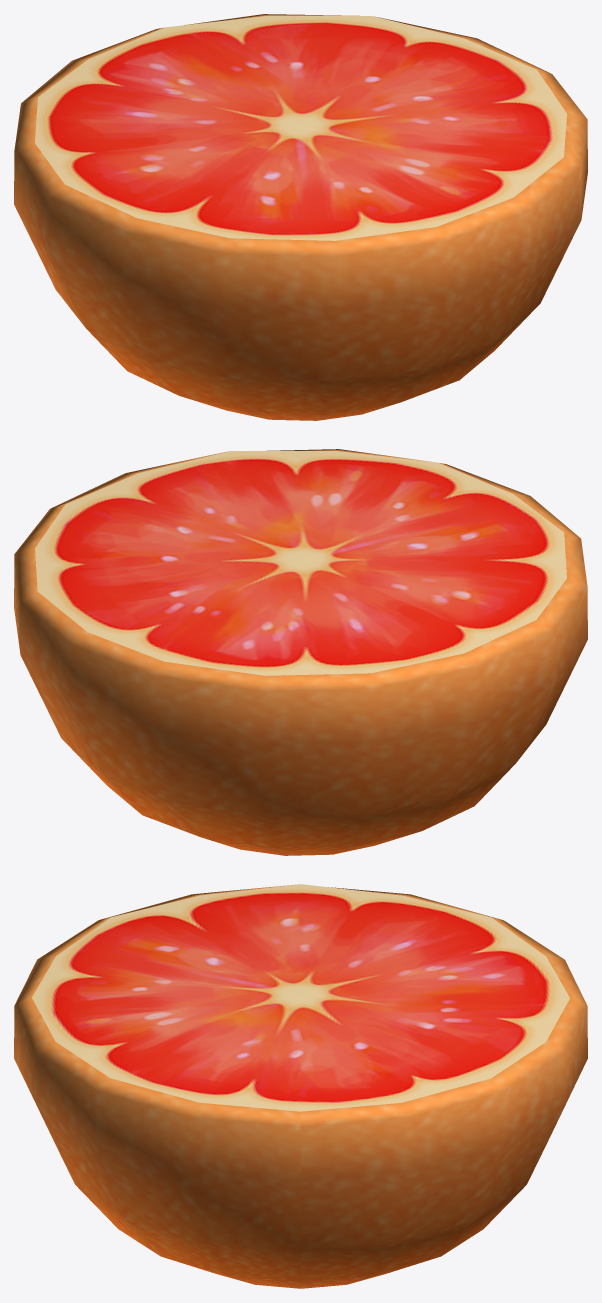
The model's file is 002-Grapefruit_Whole_half.FBX.
3 renders of one model, top to bottom at view 1: azimuth 30°, elevation 25°; view 2: azimuth 150°, elevation 25°; view 3: azimuth 270°, elevation 25°, orthographic.
Parts seen in each view (by area): view 1: 002-Grapefruit_Whole_half; view 2: 002-Grapefruit_Whole_half; view 3: 002-Grapefruit_Whole_half.
Part boxes in pixels (left/top/right/bottom): 002-Grapefruit_Whole_half: left=14, top=14, right=587, bottom=420; 002-Grapefruit_Whole_half: left=14, top=449, right=587, bottom=855; 002-Grapefruit_Whole_half: left=14, top=884, right=587, bottom=1288.
Bounding box in the file's own units: 13.23 × 6.75 × 13.23.
